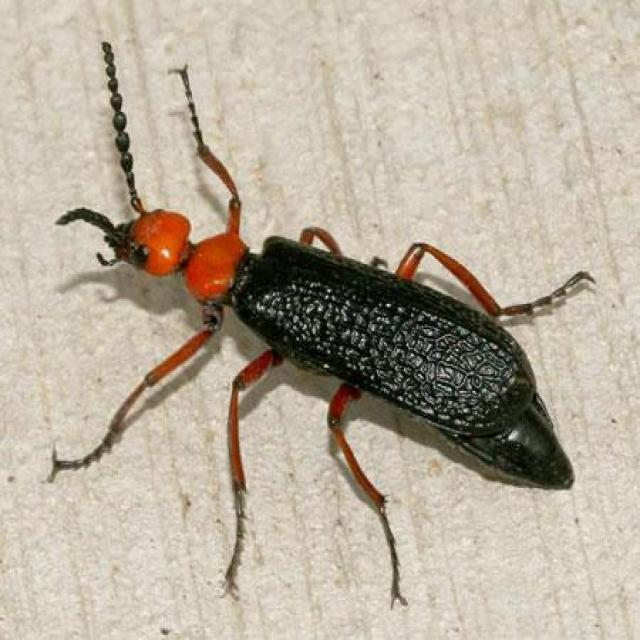BlisterBeetle-Adult-: (42, 32, 600, 619)
